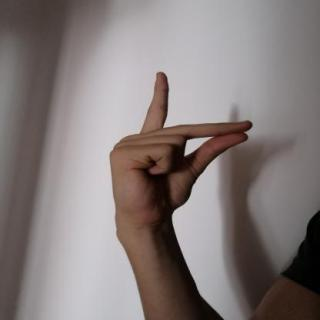TAA: (98, 67, 262, 231)
